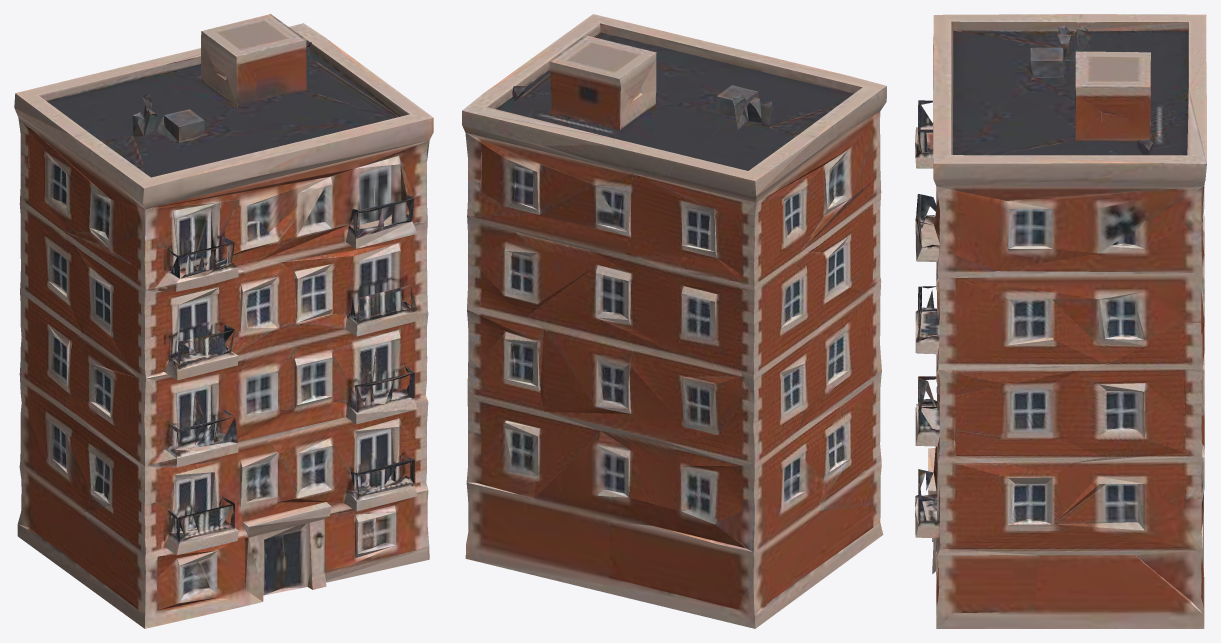
File: building-apartment.glb
3 views of the same model, side by side, from view 1: azimuth 30°, elevation 25°; view 2: azimuth 150°, elevation 25°; view 3: azimuth 270°, elevation 25° (orthographic). The views are drawn at different scales.
Size of the model in its own units: 1.19 by 1.9 by 0.9815.
Materials: 1 (1 with a texture image).
